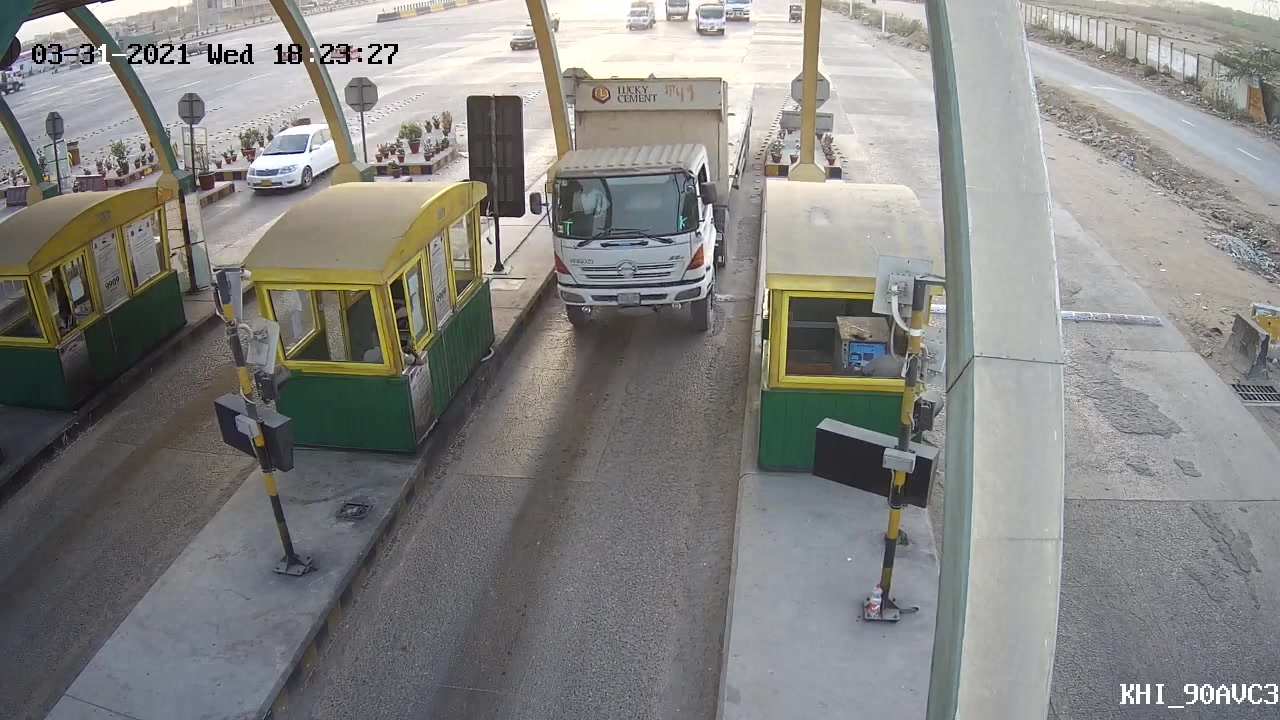F6: (538, 60, 764, 332)
